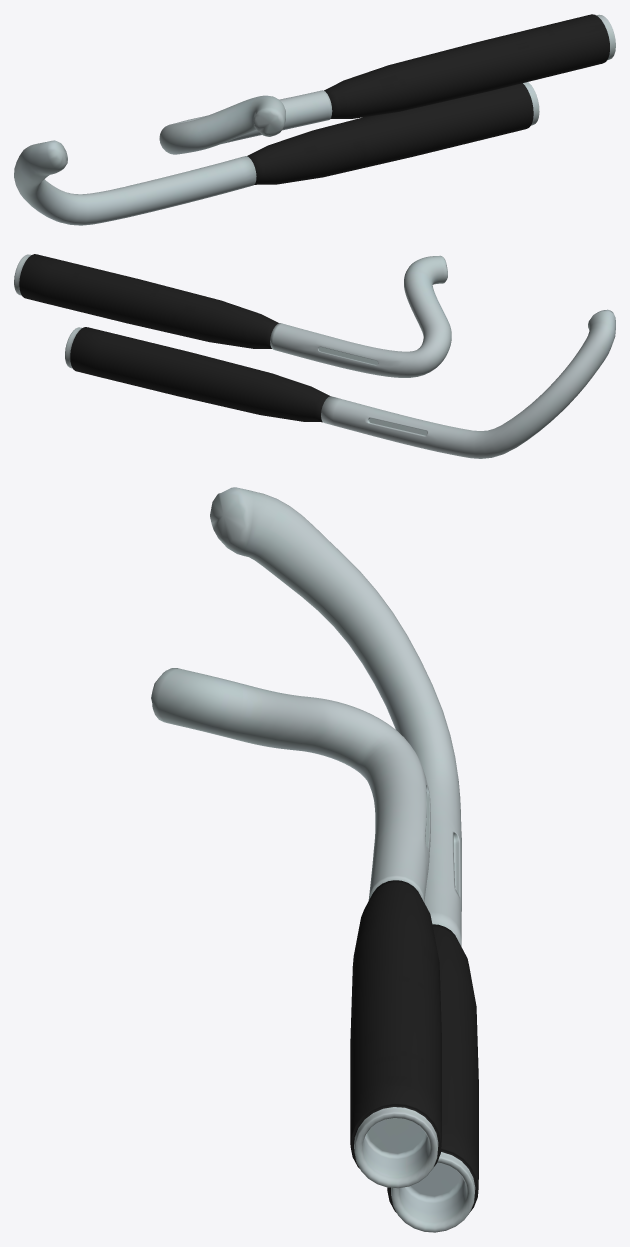
The model's file is scarico_shotgun.glb.
3 renders of one model, top to bottom at view 1: azimuth 30°, elevation 25°; view 2: azimuth 150°, elevation 25°; view 3: azimuth 270°, elevation 25°, orthographic. The views are drawn at different scales.
Visible parts, largest first — view 1: ricambio; view 2: ricambio; view 3: ricambio.
Boxes of the visible parts, box(x1,y1,x2,y2) form: ricambio: box(14, 14, 615, 225); ricambio: box(14, 254, 615, 458); ricambio: box(151, 487, 478, 1232).
Bounding box in the file's own units: 1.31 × 0.3119 × 0.3343.
Materials: 2 (2 with a texture image).
